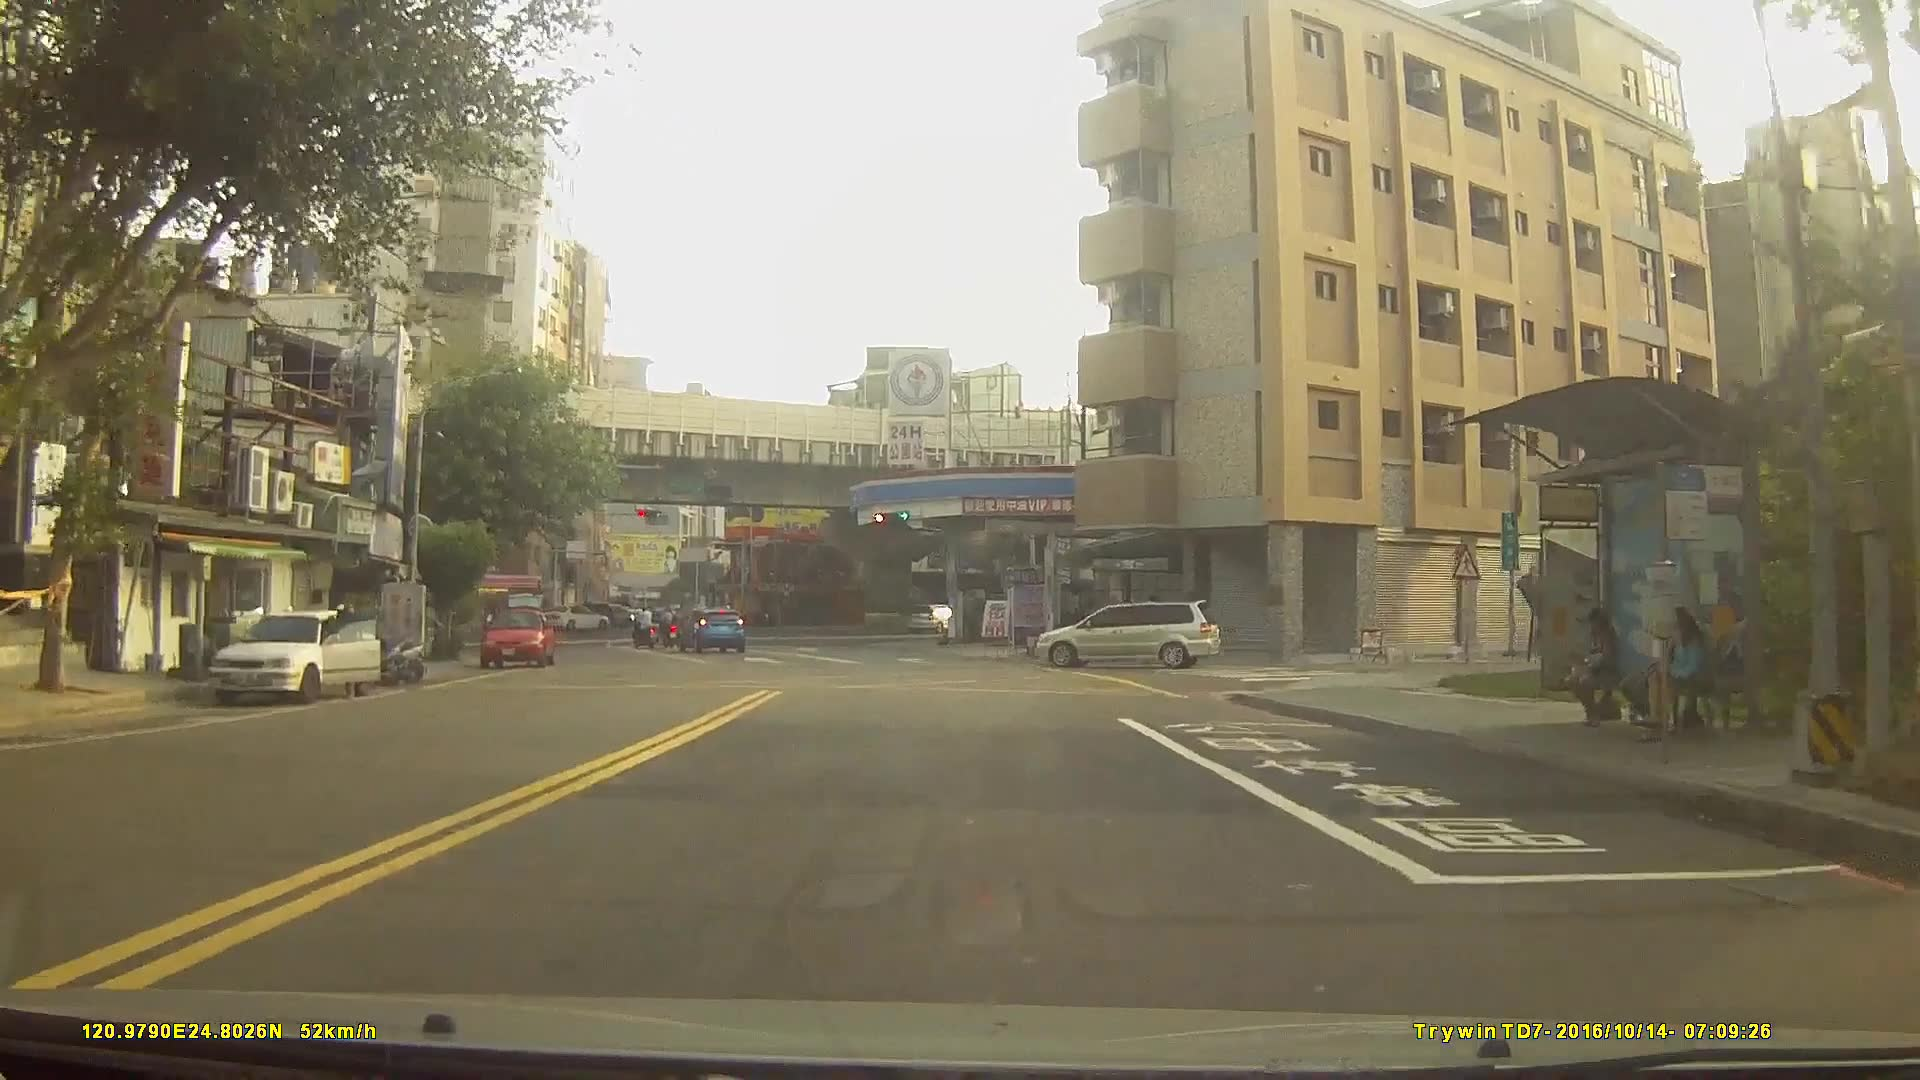pedestrian: (1563, 612, 1625, 727), (1671, 597, 1700, 752)
rider: (630, 606, 660, 654)
vehicle: (206, 608, 383, 708), (1031, 600, 1223, 667), (478, 606, 556, 667), (673, 606, 747, 652), (543, 604, 610, 632), (555, 603, 616, 633), (904, 600, 958, 631)
